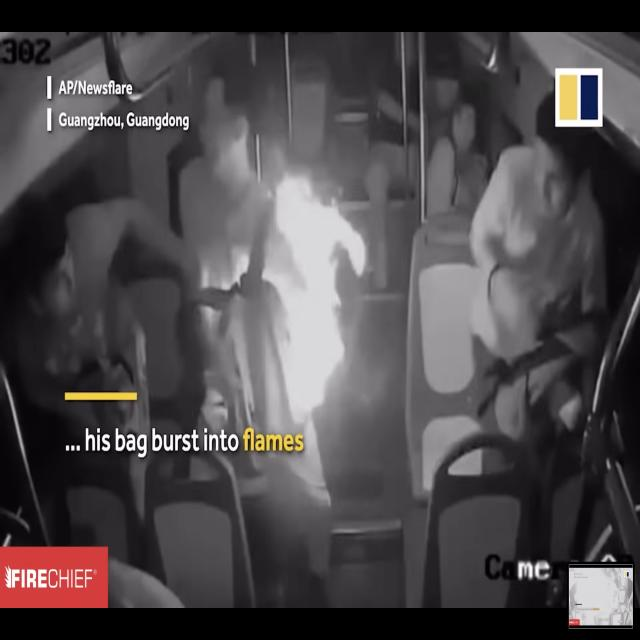Fogo: (212, 159, 398, 421)
